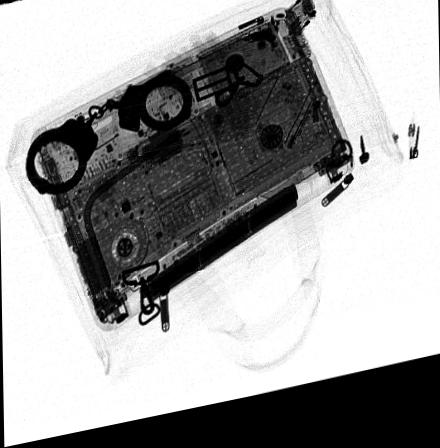HandCuffs: (23, 74, 195, 198)
